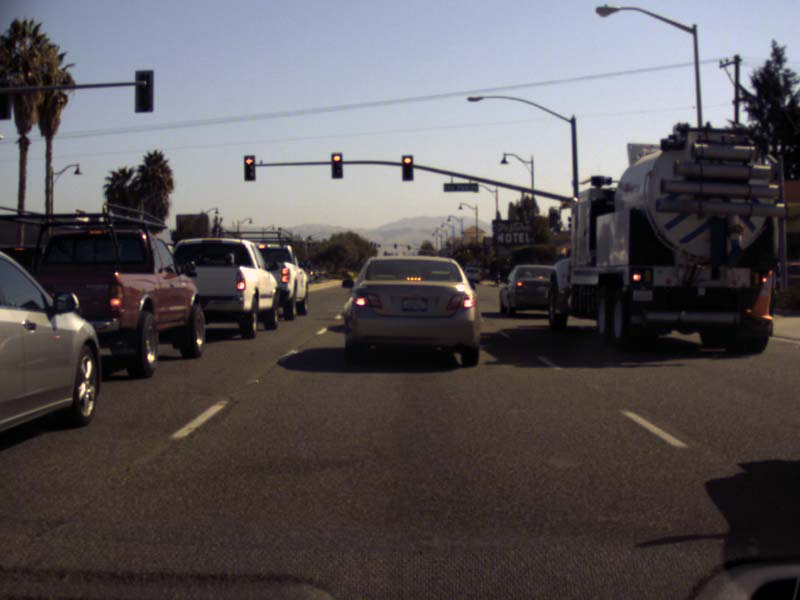Red: (243, 155, 255, 181), (331, 153, 342, 179), (401, 155, 412, 179)
